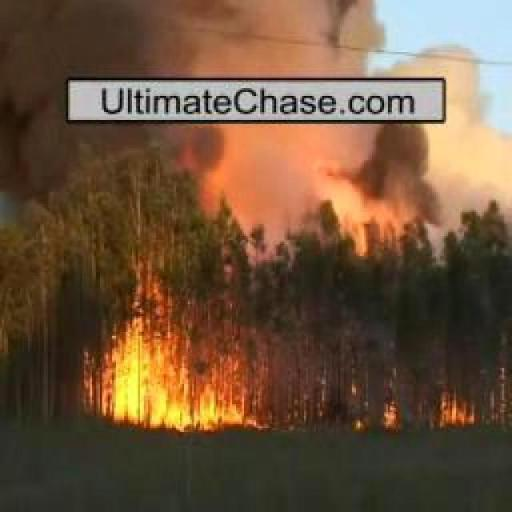smoke: (117, 322, 255, 426), (436, 392, 474, 430), (380, 398, 399, 430)
